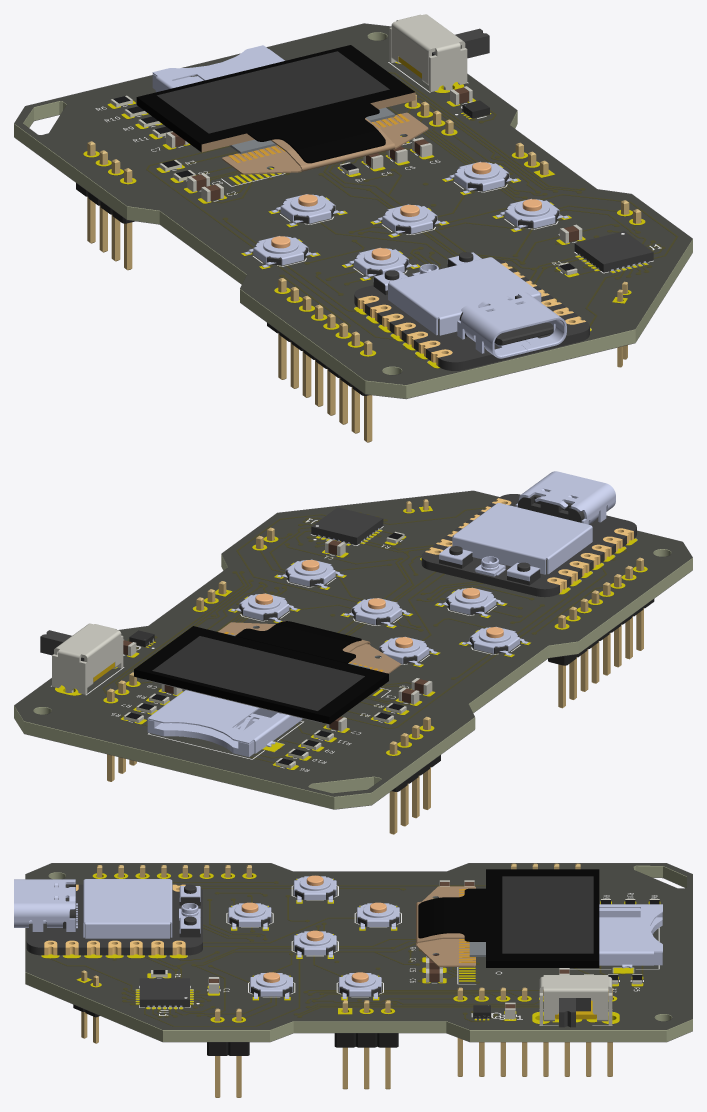
Rendered from Splunkerboard.glb.
The picture shows the model from 3 angles, top to bottom: view 1: azimuth 30°, elevation 25°; view 2: azimuth 150°, elevation 25°; view 3: azimuth 270°, elevation 25°; orthographic projection. The views are drawn at different scales.
Parts seen in each view (by area): view 1: =>[0:1:1:33], =>[0:1:1:35], =>[0:1:1:19], =>[0:1:1:13], =>[0:1:1:9] (×6), =>[0:1:1:30], =>[0:1:1:15], =>[0:1:1:25], =>[0:1:1:27], =>[0:1:1:7], =>[0:1:1:17], =>[0:1:1:31] (+1 smaller); view 2: =>[0:1:1:33], =>[0:1:1:35], =>[0:1:1:19], =>[0:1:1:13], =>[0:1:1:9] (×6), =>[0:1:1:7], =>[0:1:1:30], =>[0:1:1:25] (×2), =>[0:1:1:15], =>[0:1:1:27], =>[0:1:1:17], =>[0:1:1:31] (+1 smaller); view 3: =>[0:1:1:33], =>[0:1:1:35], =>[0:1:1:19], =>[0:1:1:13], =>[0:1:1:9] (×6), =>[0:1:1:30], =>[0:1:1:7], =>[0:1:1:15], =>[0:1:1:25] (×2), =>[0:1:1:23], =>[0:1:1:17], =>[0:1:1:21] (+3 smaller).
Part boxes in pixels (box(x1,y1,x2,y2)): =>[0:1:1:33]: box(14, 23, 692, 384); =>[0:1:1:35]: box(14, 24, 692, 398); =>[0:1:1:19]: box(136, 45, 428, 174); =>[0:1:1:13]: box(354, 252, 589, 370); =>[0:1:1:9] (×6): box(244, 161, 568, 279); =>[0:1:1:30]: box(83, 62, 677, 368); =>[0:1:1:15]: box(389, 14, 489, 91); =>[0:1:1:25]: box(267, 278, 372, 442); =>[0:1:1:27]: box(76, 141, 135, 270); =>[0:1:1:7]: box(152, 45, 284, 92); =>[0:1:1:17]: box(574, 231, 653, 272); =>[0:1:1:31]: box(95, 62, 661, 275); =>[0:1:1:33]: box(14, 490, 692, 796); =>[0:1:1:35]: box(14, 491, 692, 809); =>[0:1:1:19]: box(134, 621, 400, 724); =>[0:1:1:13]: box(421, 471, 636, 597); =>[0:1:1:9] (×6): box(231, 559, 528, 665); =>[0:1:1:7]: box(147, 690, 302, 756); =>[0:1:1:30]: box(55, 506, 647, 769); =>[0:1:1:25] (×2): box(107, 557, 654, 781); =>[0:1:1:15]: box(40, 623, 123, 694); =>[0:1:1:27]: box(389, 716, 440, 834); =>[0:1:1:17]: box(311, 507, 383, 545); =>[0:1:1:31]: box(51, 518, 520, 771); =>[0:1:1:33]: box(25, 863, 692, 1029); =>[0:1:1:35]: box(25, 864, 692, 1041); =>[0:1:1:19]: box(416, 869, 599, 967); =>[0:1:1:13]: box(14, 879, 202, 955); =>[0:1:1:9] (×6): box(228, 875, 399, 998); =>[0:1:1:30]: box(41, 873, 660, 1025); =>[0:1:1:7]: box(599, 904, 662, 968); =>[0:1:1:15]: box(539, 975, 612, 1027); =>[0:1:1:25] (×2): box(97, 865, 612, 1076); =>[0:1:1:23]: box(334, 1000, 398, 1089); =>[0:1:1:17]: box(139, 978, 189, 1007); =>[0:1:1:21]: box(207, 1008, 249, 1097).
Bounding box in the file's own units: 0.0497 × 0.0149 × 0.0806.
